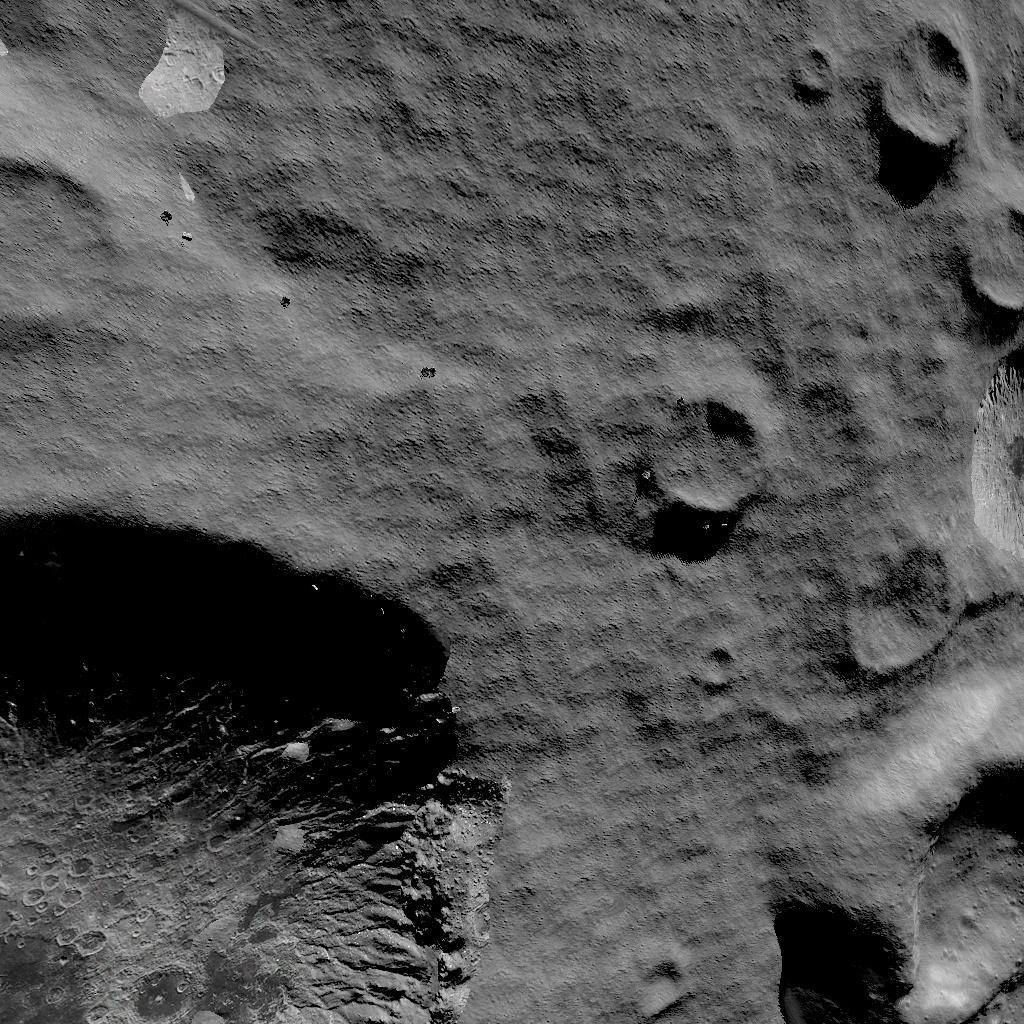Boulders: (140, 38, 229, 136)
Crater: (0, 516, 500, 1024), (819, 362, 1024, 702), (803, 744, 1024, 1024), (0, 156, 117, 358), (640, 402, 764, 536), (868, 35, 980, 169), (933, 213, 1024, 329), (779, 56, 836, 118)
Plan surface: (133, 178, 616, 498), (515, 760, 783, 982), (387, 0, 743, 153)
